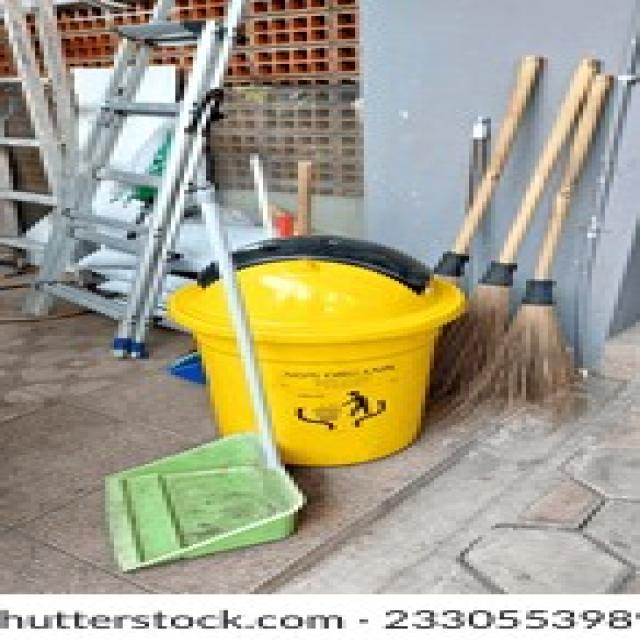metal: (79, 18, 184, 343)
plastic: (215, 247, 447, 450)
